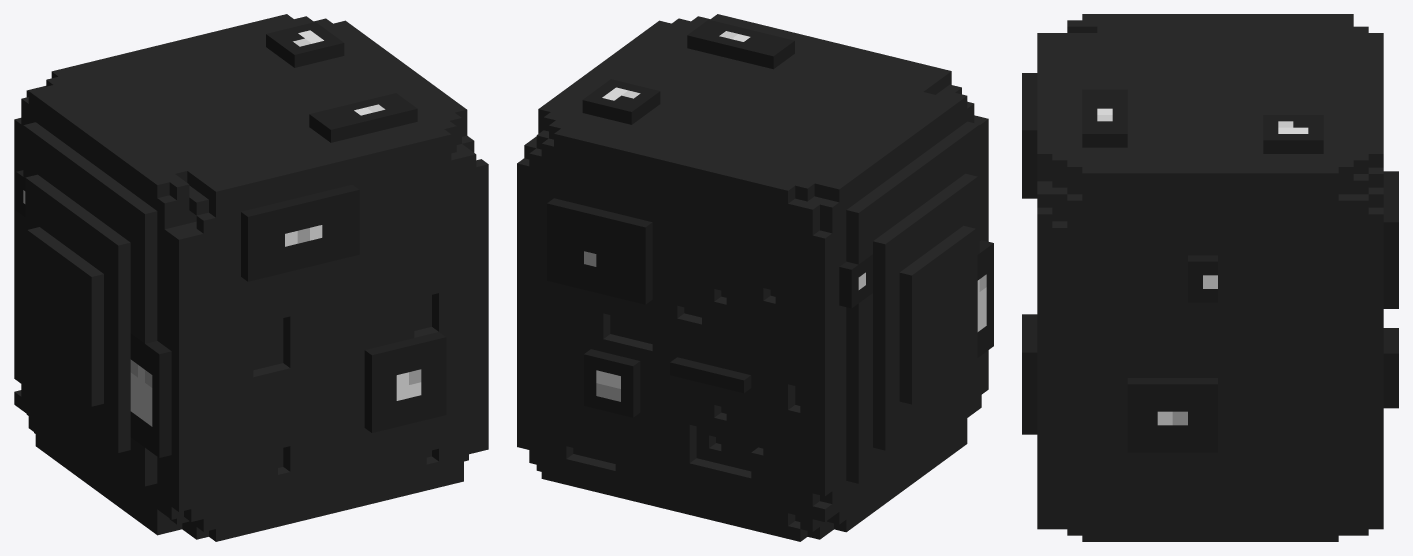
Rendered from monster-1.obj.
3 renders of one model, left to right at view 1: azimuth 30°, elevation 25°; view 2: azimuth 150°, elevation 25°; view 3: azimuth 270°, elevation 25°, orthographic. The views are drawn at different scales.
Bounding box in the file's own units: 2.9 × 2.9 × 2.5.
1 material, 1 textured.
